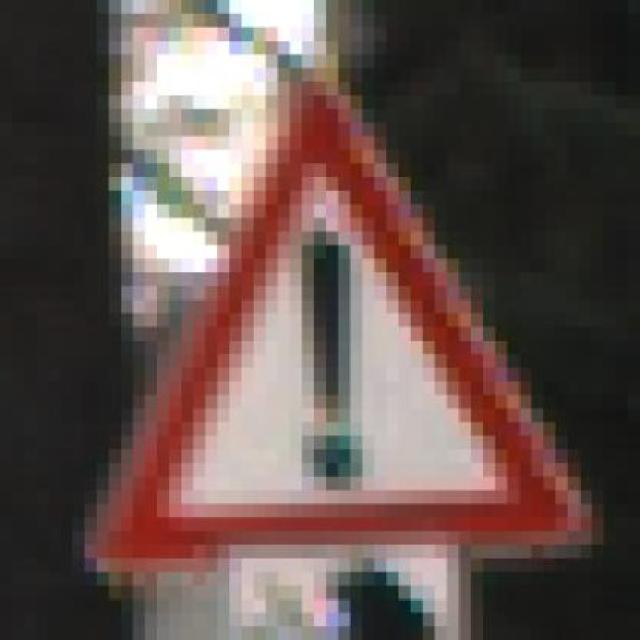Attention Please-: (49, 41, 616, 613)
